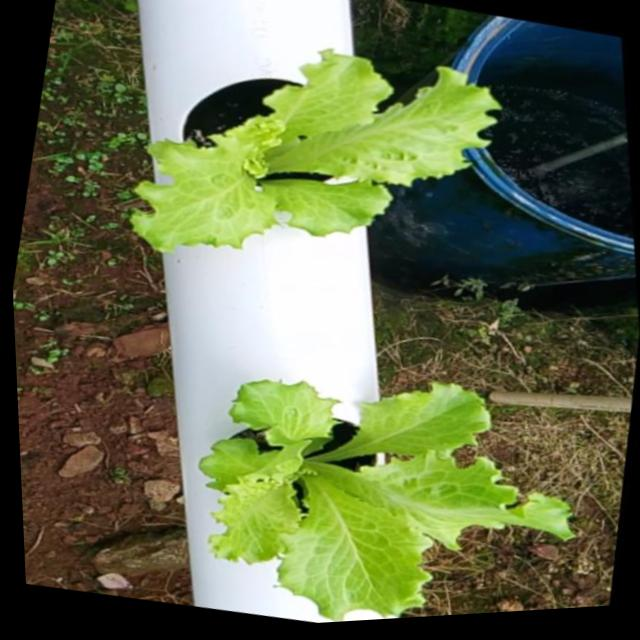Baby: (198, 382, 570, 622), (129, 47, 497, 249)
